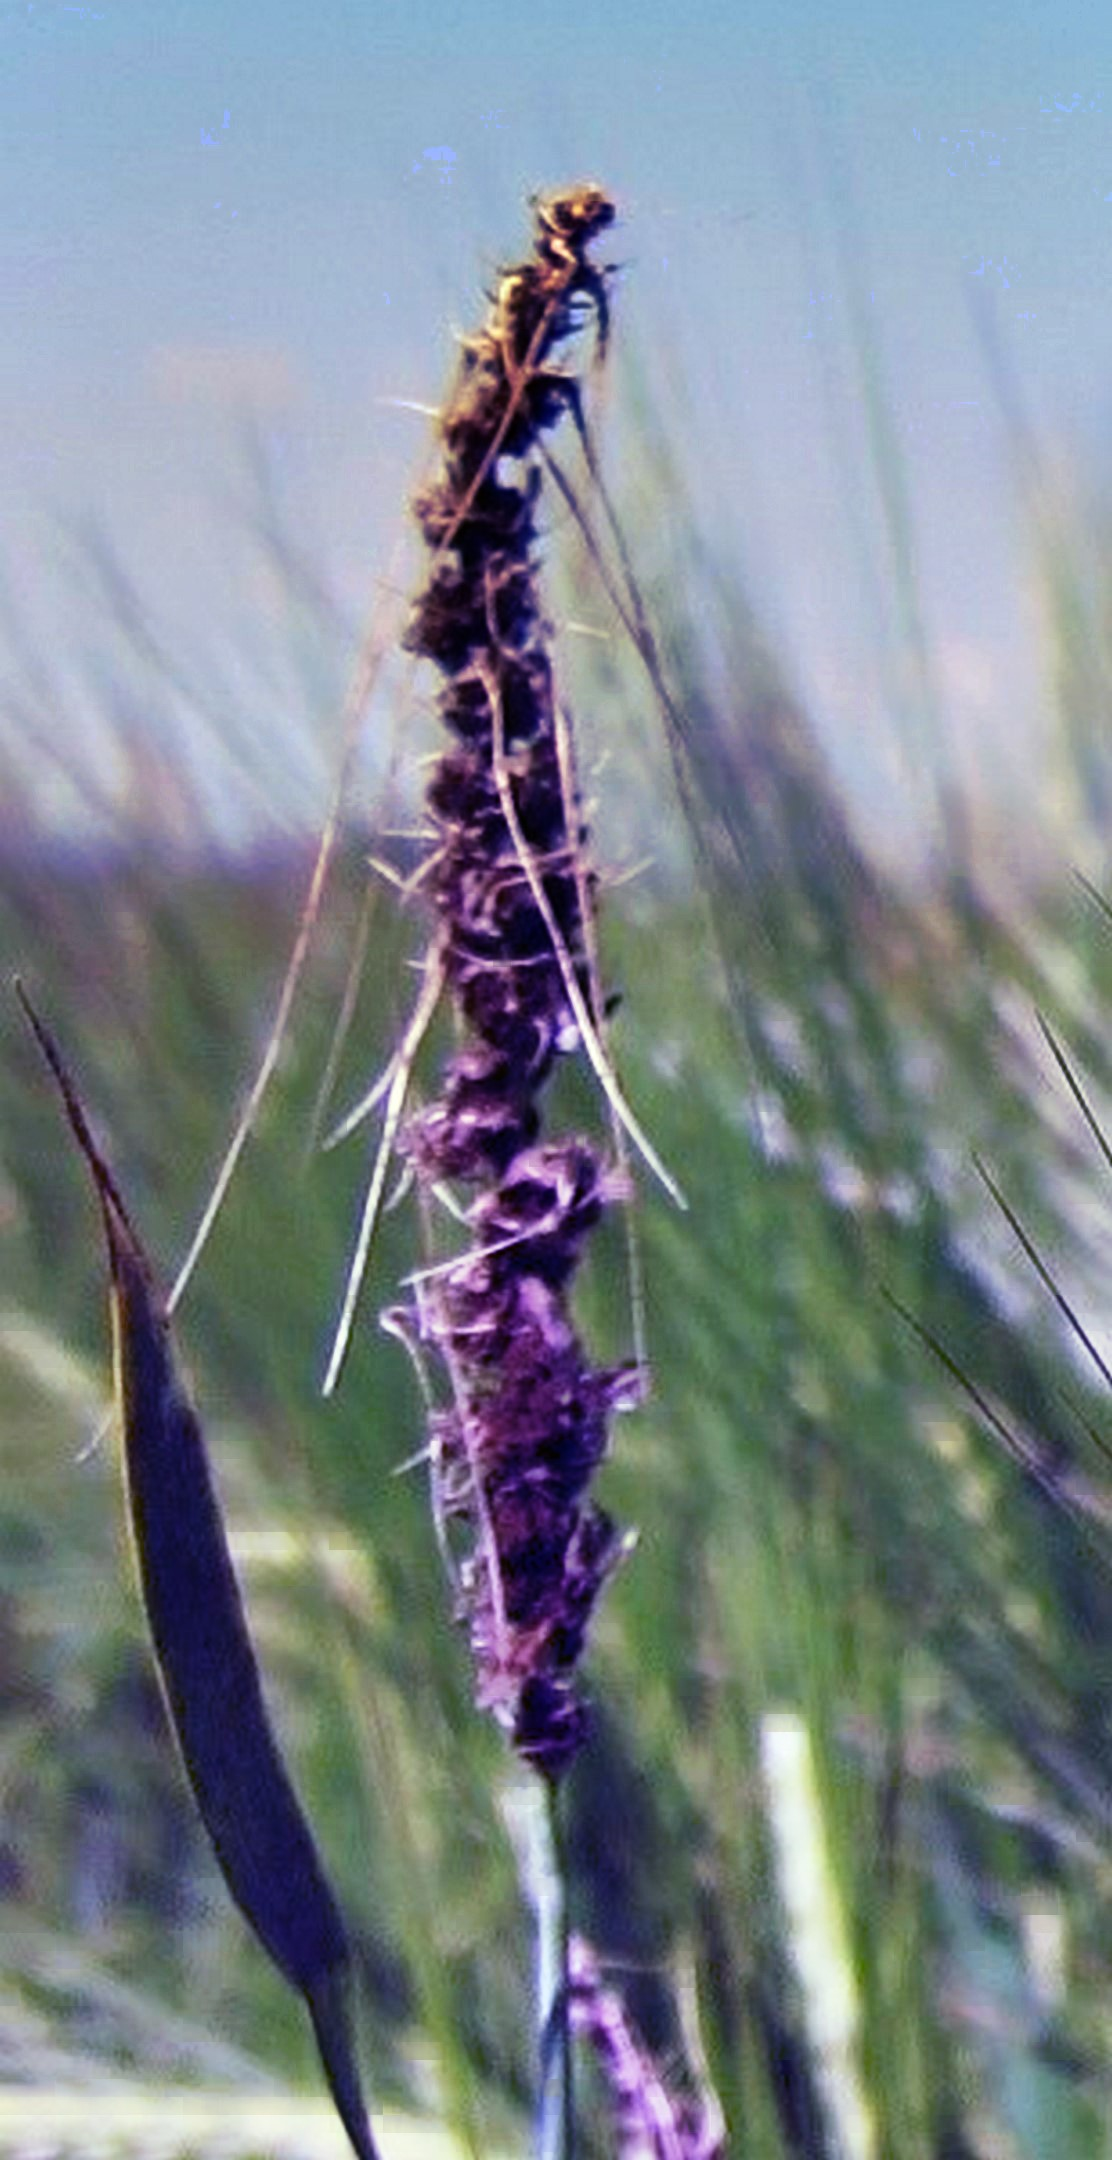Wheat Loose Smut: (308, 173, 718, 1796)
